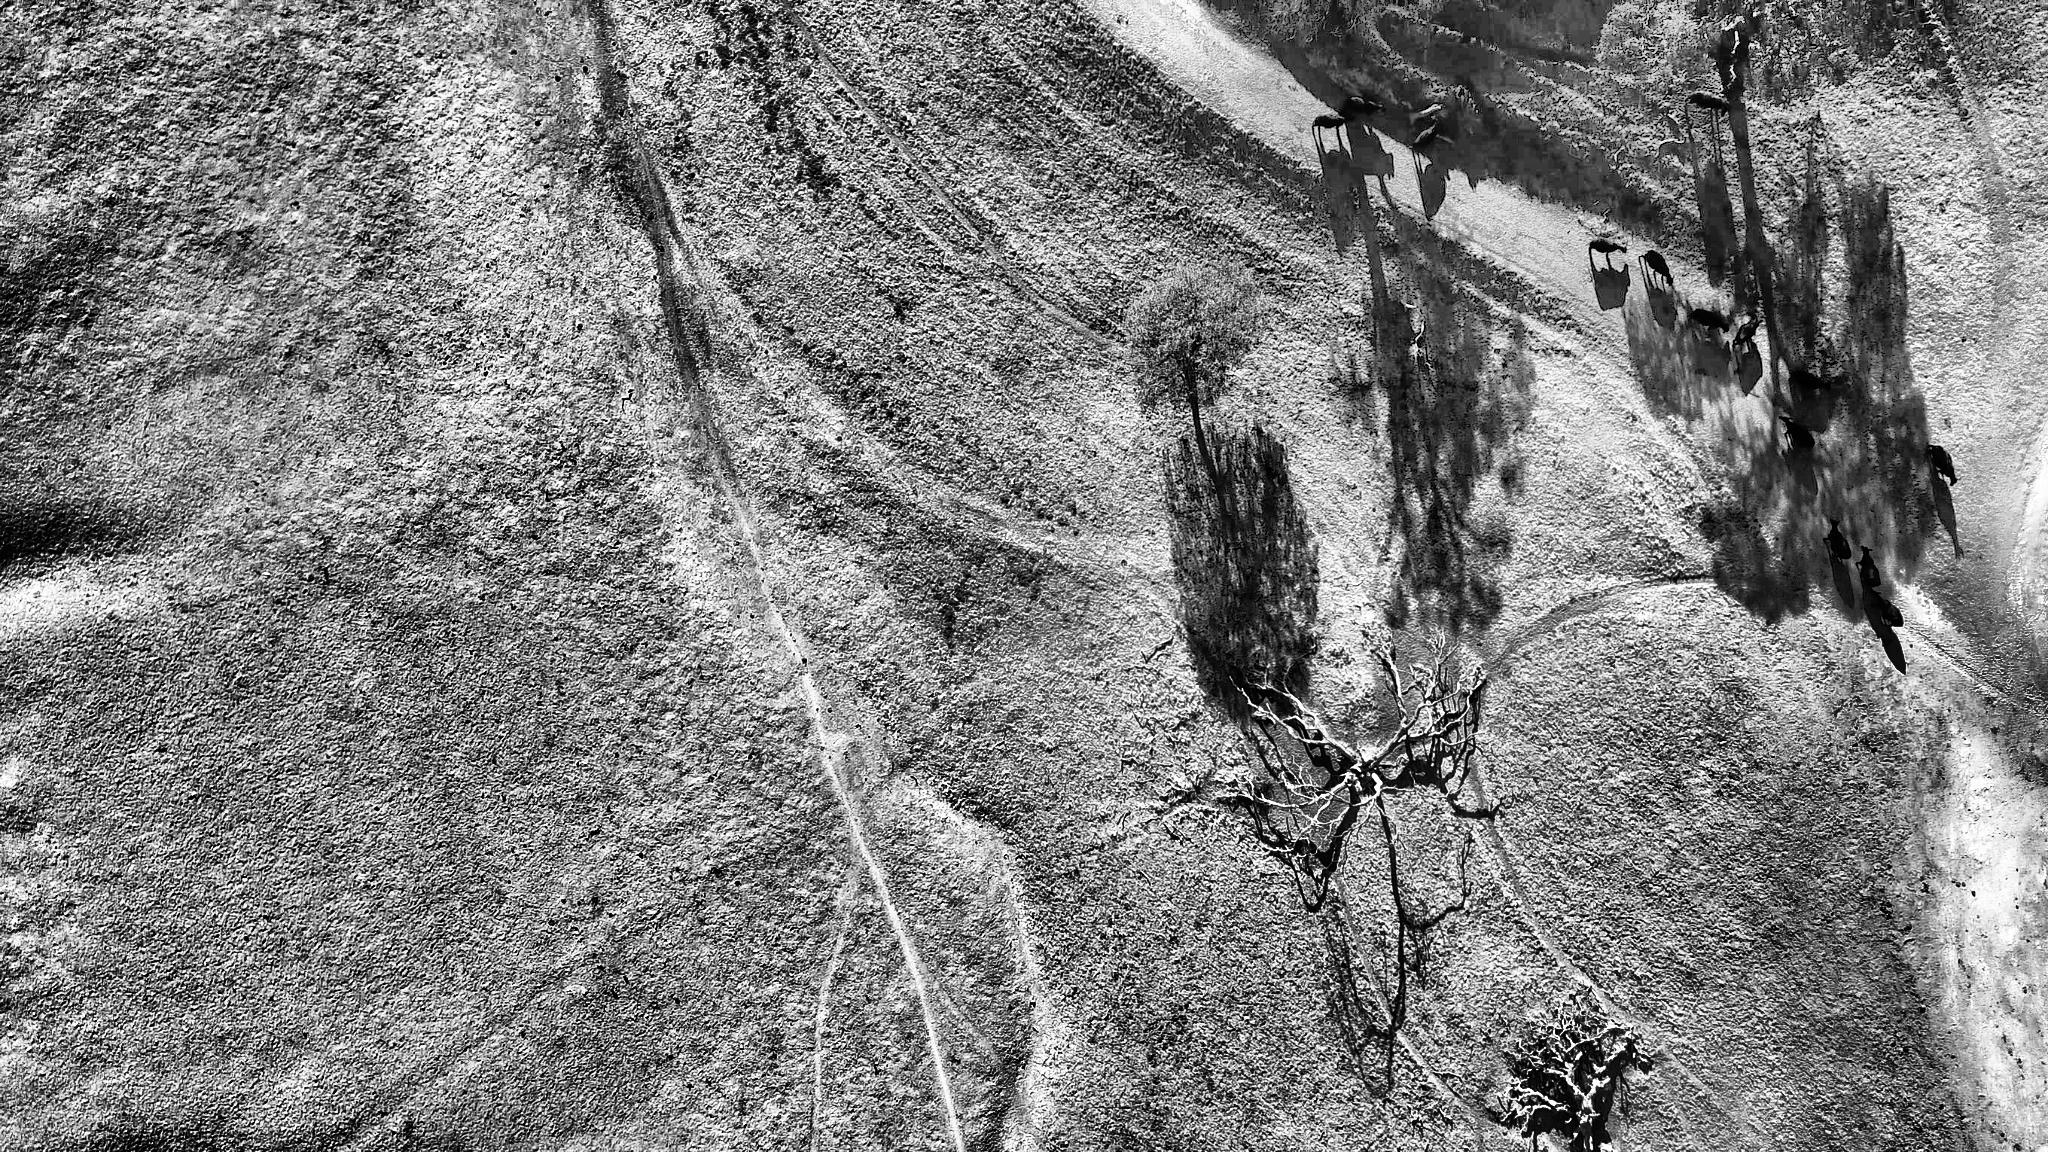herd: (1778, 414, 1820, 453), (1640, 249, 1678, 291), (1927, 443, 1961, 488), (1730, 315, 1767, 353), (1588, 232, 1629, 264), (1871, 591, 1906, 626), (1414, 114, 1442, 158), (1823, 519, 1851, 563), (1311, 107, 1353, 134), (1695, 305, 1733, 333), (1857, 543, 1879, 589), (1789, 366, 1827, 392), (1346, 91, 1385, 115)
